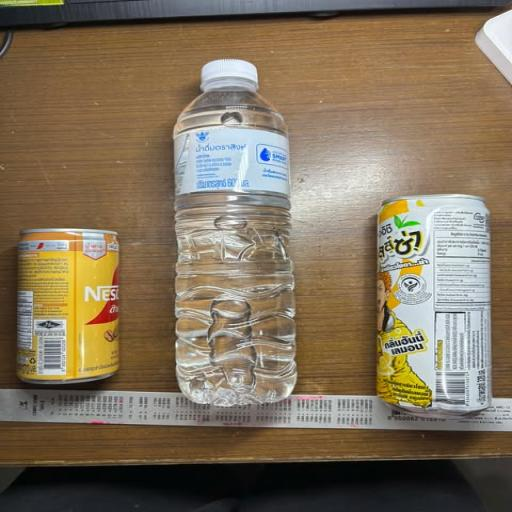canned: (6, 208, 148, 404)
